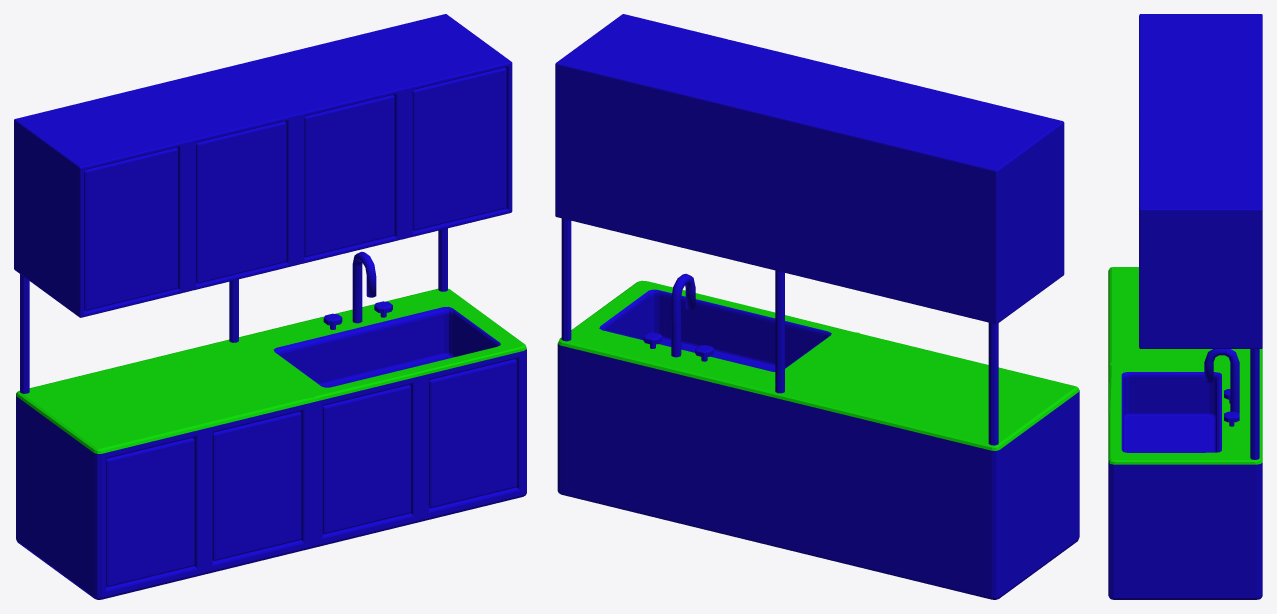
File: DiningShelf.fbx
3 views of the same model, side by side, from view 1: azimuth 30°, elevation 25°; view 2: azimuth 150°, elevation 25°; view 3: azimuth 270°, elevation 25° (orthographic). The views are drawn at different scales.
Parts seen in each view (by area): view 1: dining_shelve; view 2: dining_shelve; view 3: dining_shelve.
Part boxes in pixels (box(x1,y1,x2,y2)): dining_shelve: box(14, 14, 526, 599); dining_shelve: box(555, 14, 1079, 599); dining_shelve: box(1108, 14, 1262, 599).
Size of the model in its own units: 300 by 280 by 100.
